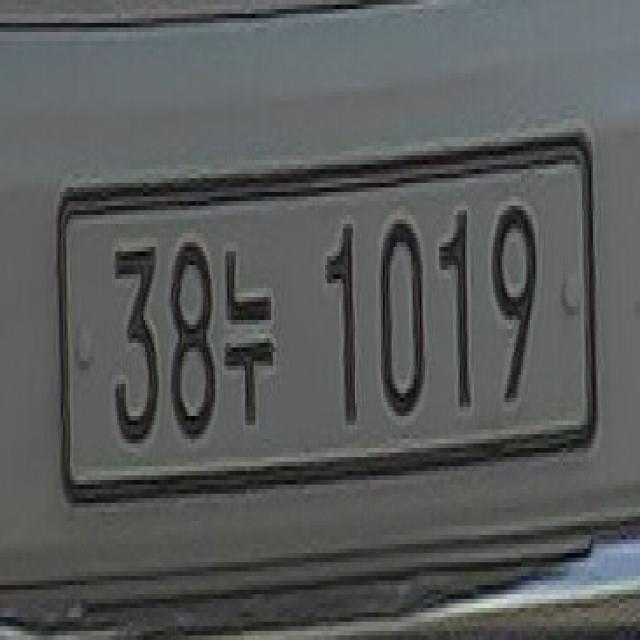0: (376, 210, 427, 421)
1: (437, 201, 474, 416), (322, 210, 358, 430)
3: (112, 233, 161, 453)
8: (170, 228, 218, 439)
9: (488, 196, 538, 407)
license_plate: (58, 137, 598, 503)
nu: (218, 238, 280, 434)
